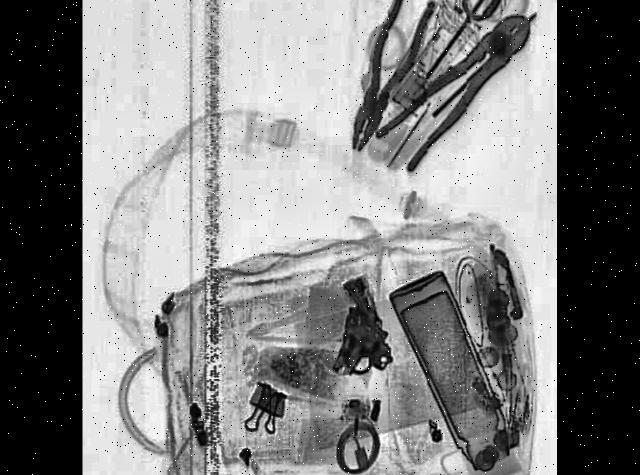Pliers: (373, 0, 542, 182), (335, 0, 438, 164)
